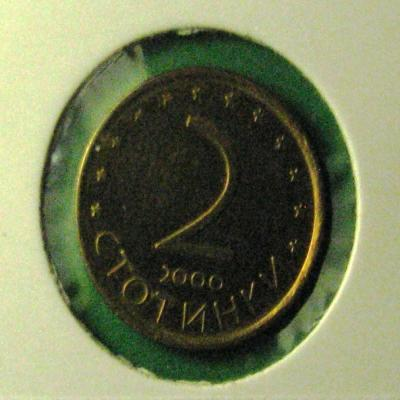numismatics: (76, 67, 332, 353)
